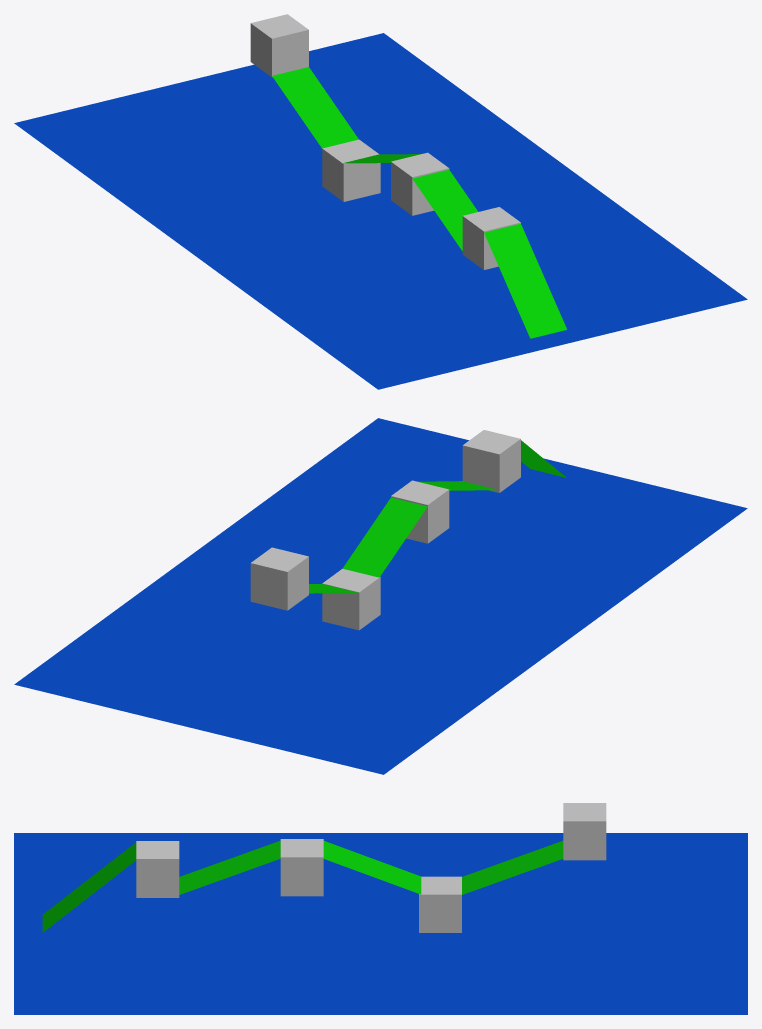
Rendered from physic_02.obj.
3 renders of one model, top to bottom at view 1: azimuth 30°, elevation 25°; view 2: azimuth 150°, elevation 25°; view 3: azimuth 270°, elevation 25°, orthographic.
Visible parts, largest first — view 1: Plane.003_Plane.004, Plane.004_Plane.005, Plane.001, Cube.002, Cube.003, Plane, Cube.001, Cube; view 2: Plane.003_Plane.004, Plane.002, Cube.002, Cube, Cube.003, Cube.001, Plane.004_Plane.005; view 3: Plane.003_Plane.004, Cube.001, Cube.002, Cube, Cube.003, Plane, Plane.001, Plane.002, Plane.004_Plane.005.
Boxes of the visible parts, x1,y1,x2,y2 form: Plane.003_Plane.004: (14,33,747,389); Plane.004_Plane.005: (484,223,567,338); Plane.001: (272,67,358,148); Cube.002: (250,14,308,77); Cube.003: (322,139,380,201); Plane: (412,169,477,250); Cube.001: (391,152,449,215); Cube: (462,207,520,269); Plane.003_Plane.004: (14,418,747,774); Plane.002: (343,497,427,577); Cube.002: (250,547,308,610); Cube: (462,430,520,492); Cube.003: (322,568,380,630); Cube.001: (391,480,449,543); Plane.004_Plane.005: (521,440,566,477); Plane.003_Plane.004: (14,833,747,1014); Cube.001: (280,839,323,896); Cube.002: (563,803,606,860); Cube: (136,841,179,897); Cube.003: (419,876,461,932); Plane: (179,840,280,894); Plane.001: (462,841,563,894); Plane.002: (323,841,421,894); Plane.004_Plane.005: (42,842,136,932).
Bounding box in the file's own units: 20 × 5.8 × 34.12.
